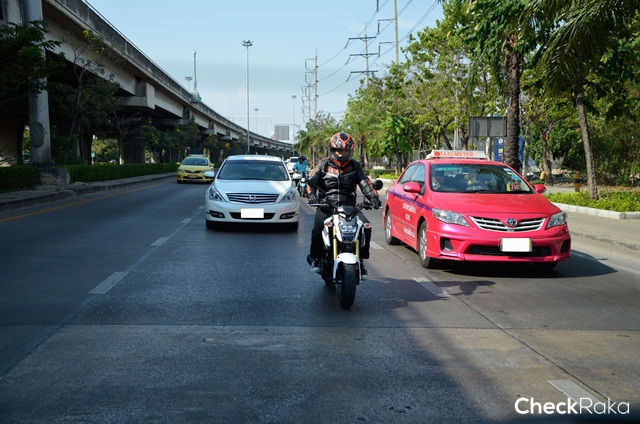helmet: (327, 132, 355, 169)
motorcycle: (299, 179, 389, 309)
